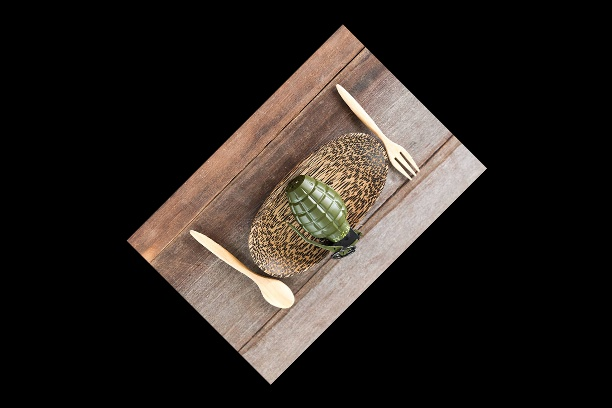e1: (287, 172, 366, 260)
